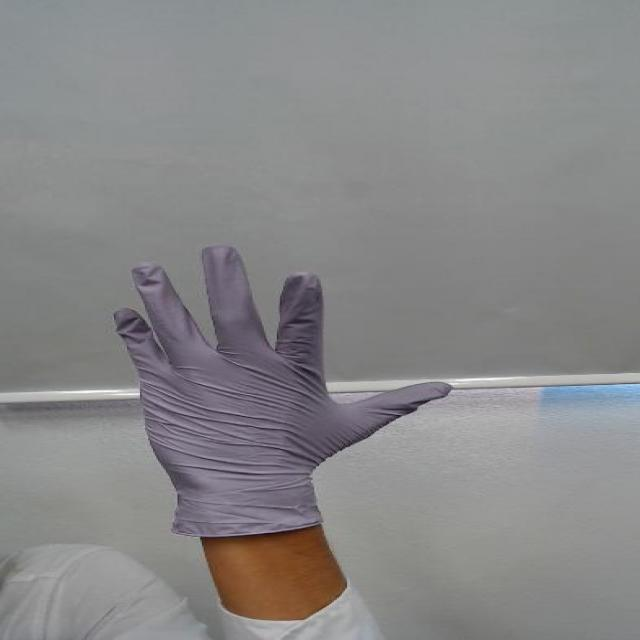with_gloves: (79, 226, 488, 490)
